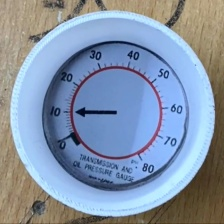gauge: (42, 39, 188, 192)
